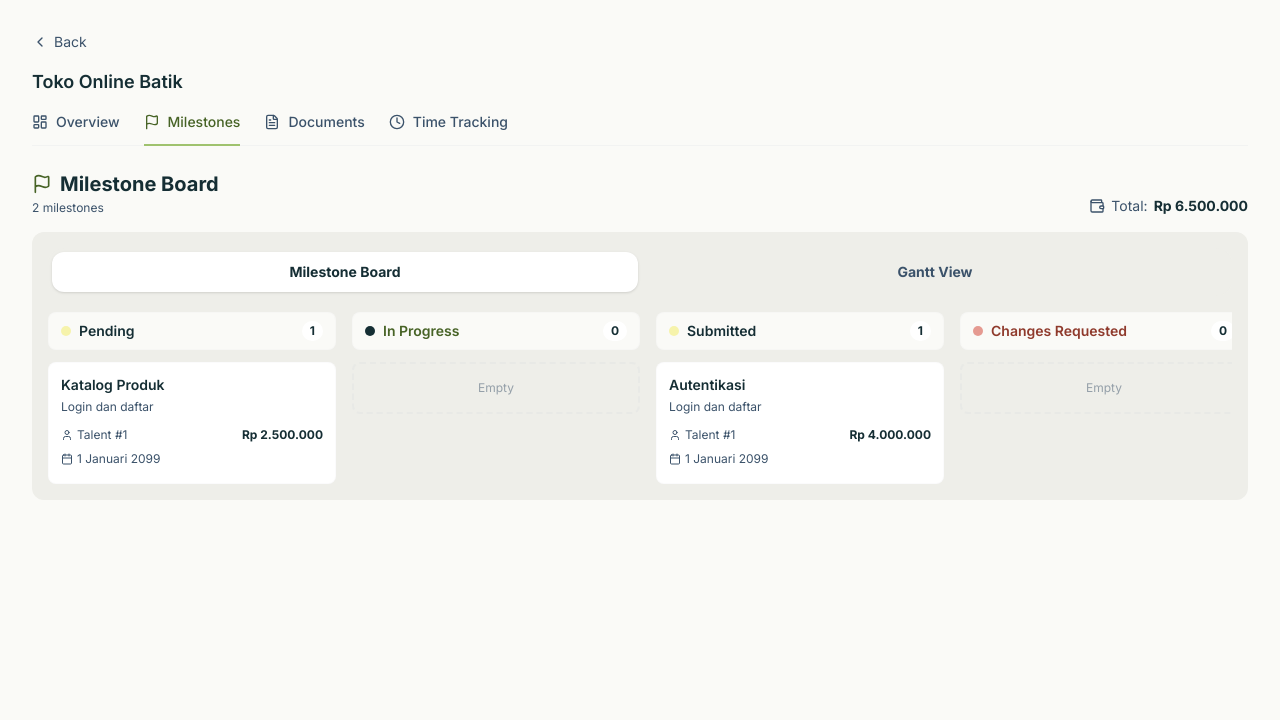
Test: the controls each role is offered on a submitted milestone › offers a talent the start control on a pending milestone
The width and height of the screenshot is (1280, 720).
What coordinates should you click on to do the following:
click the button "Katalog Produk"
I would click on:
 (113, 384)
Its box is [61,375,323,467].
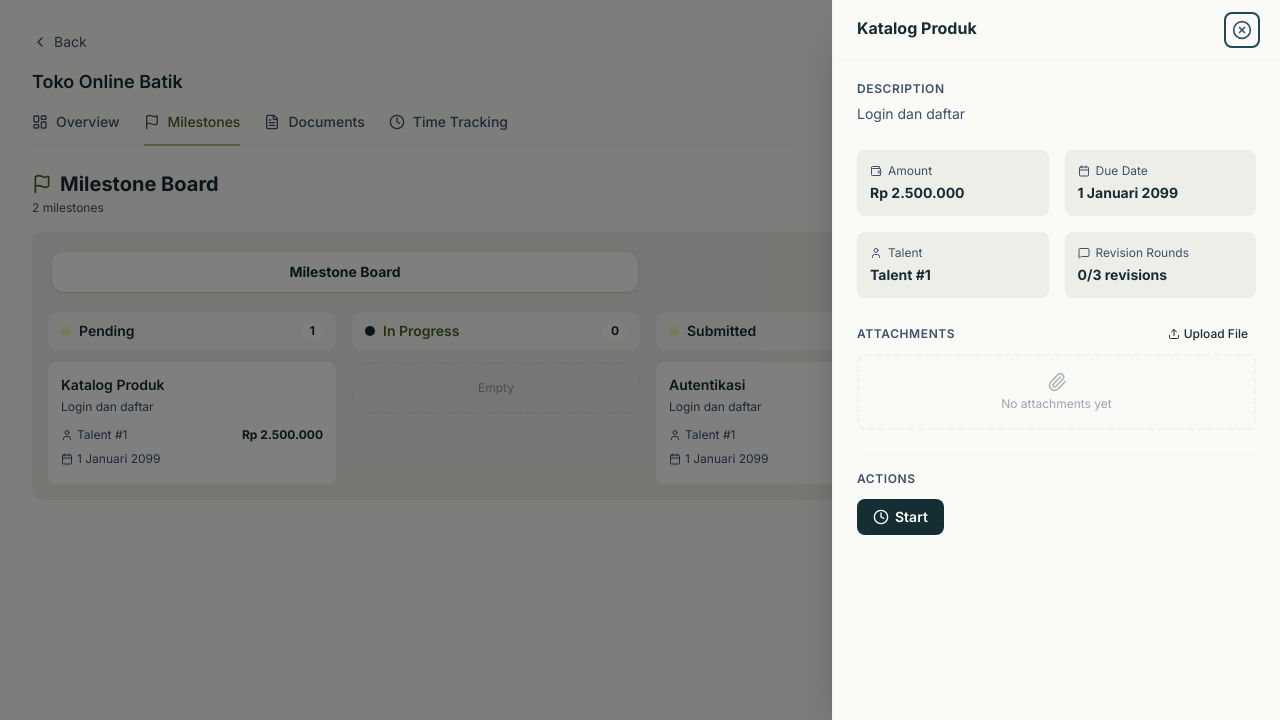
Expected: the button "Start" is shown, [857,499,944,535]
